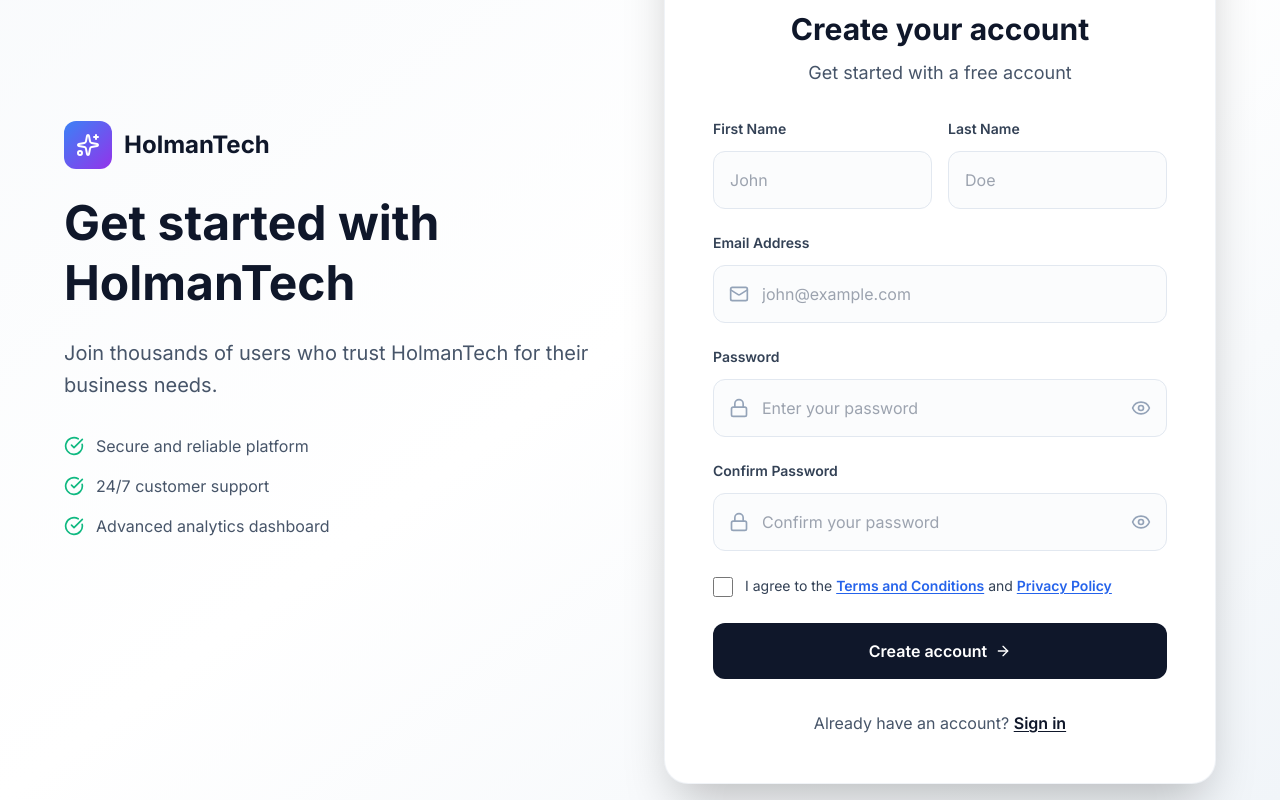
it: Form Integration Tests › Password Visibility Integration › should toggle password visibility in login mode
(page scrolled)
# Switch to login mode
Click the button with test id "toggle-mode": x=1040, y=723 [1014,711,1066,735]
(page scrolled)
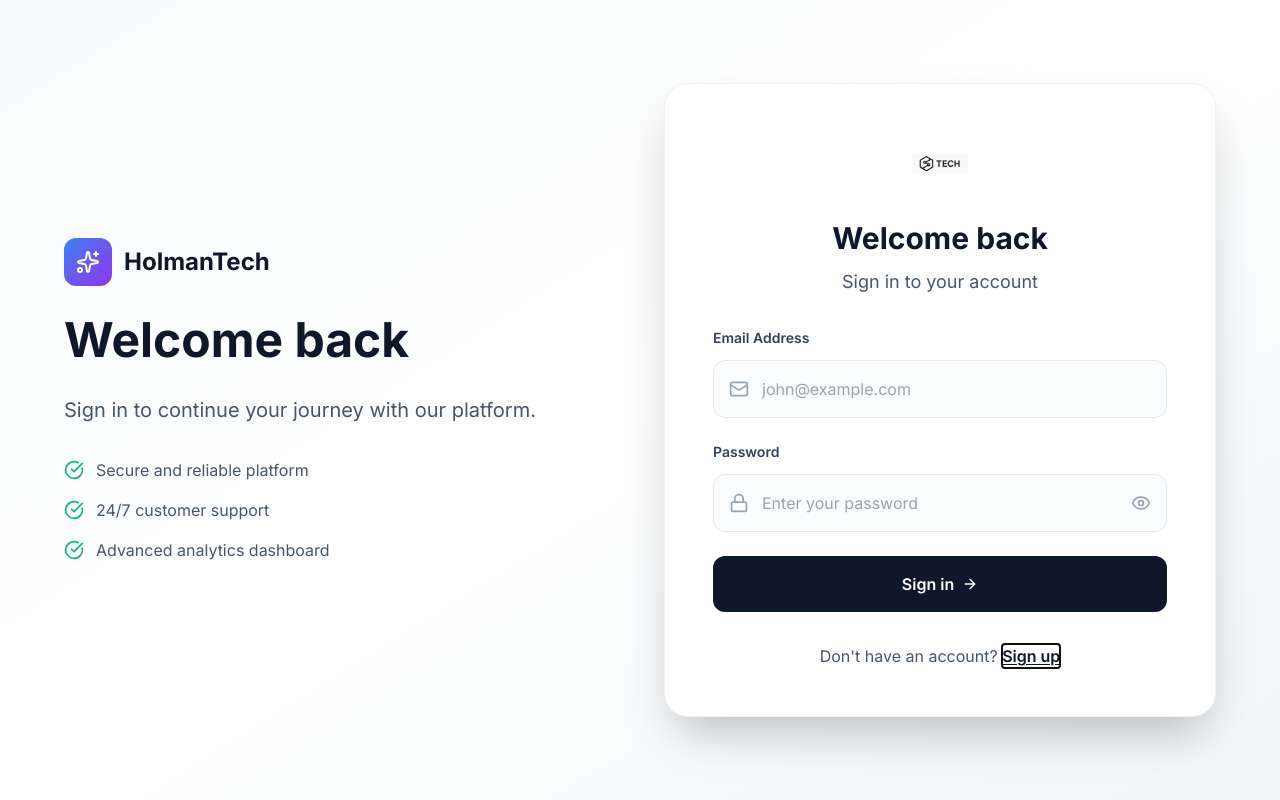
# Type password
In the password field with test id "password-input": x=940, y=503 [713,474,1167,532], type "password123"
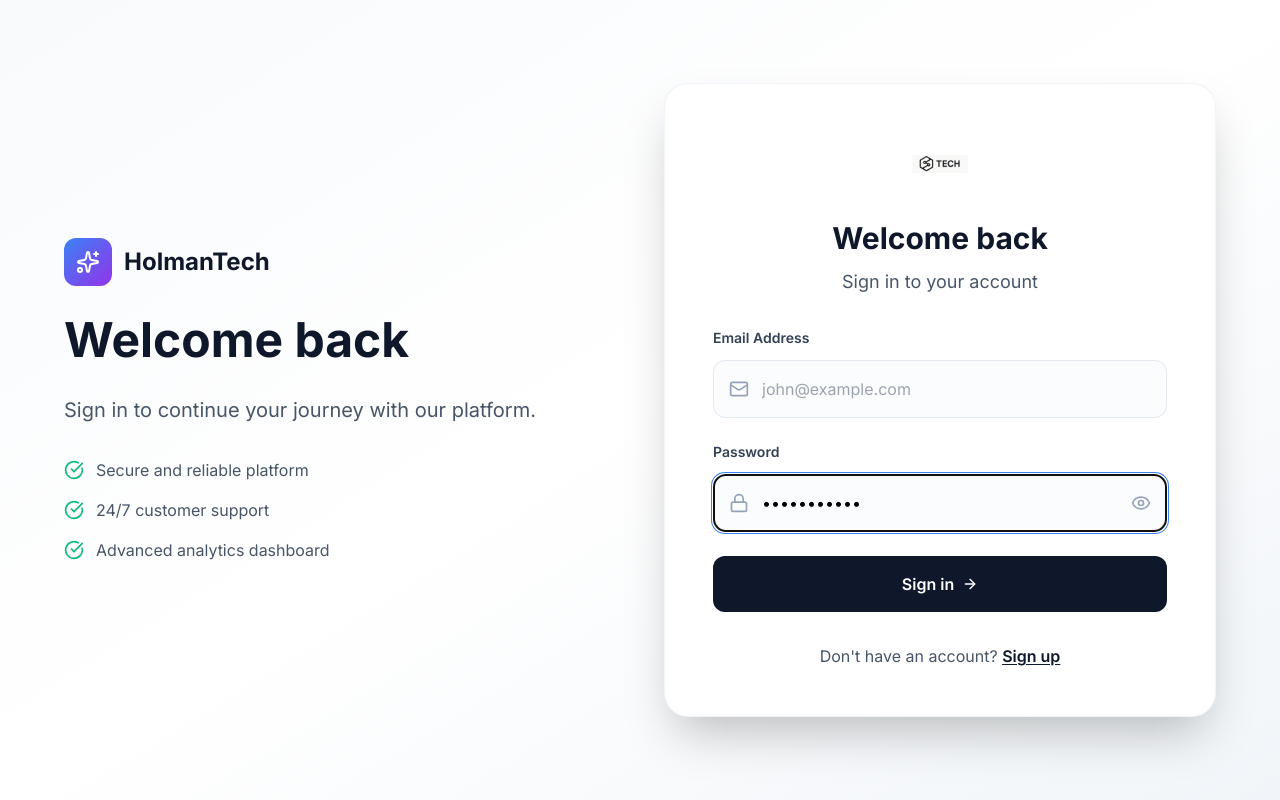
# Toggle visibility
Click the button with test id "toggle-password": x=1141, y=503 [1131,493,1151,513]
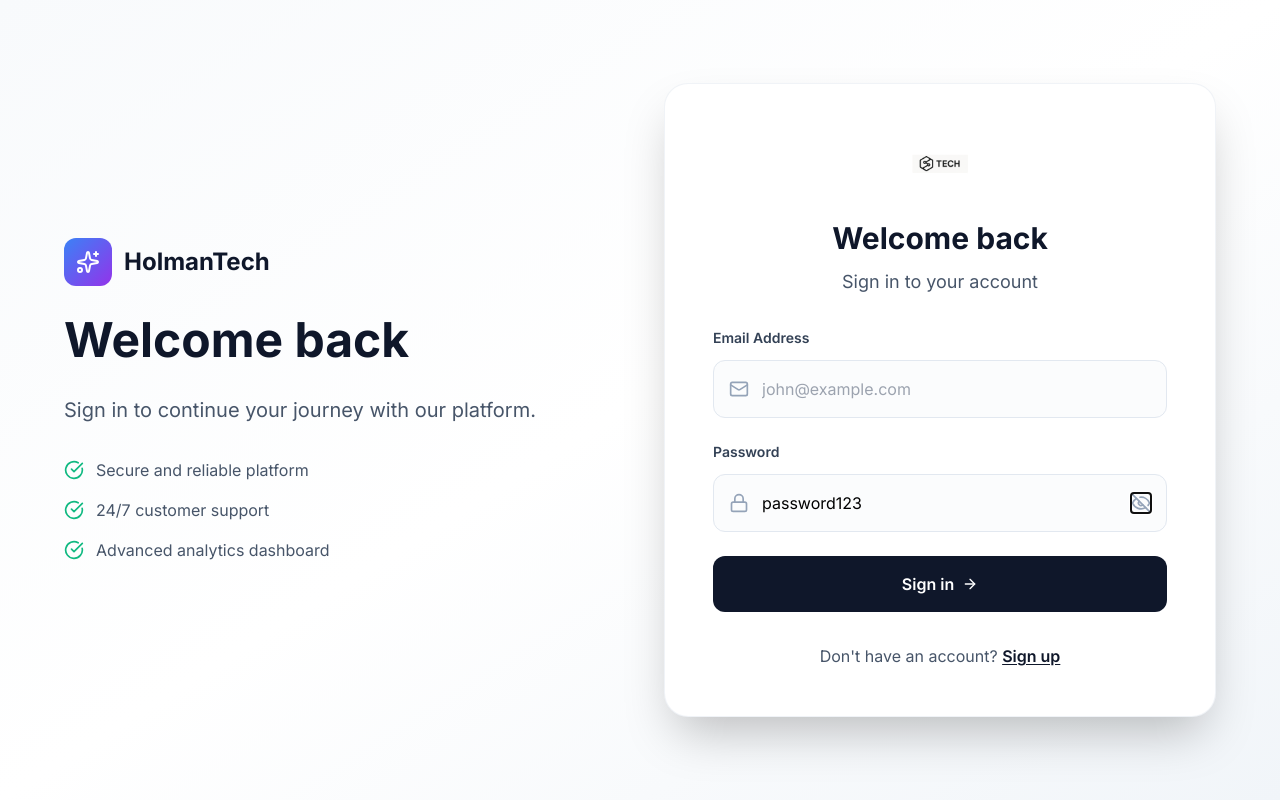
Now the field with test id "password-input" shows its text, box [713,474,1167,532]
# Toggle back
Click the button with test id "toggle-password": x=1141, y=503 [1131,493,1151,513]
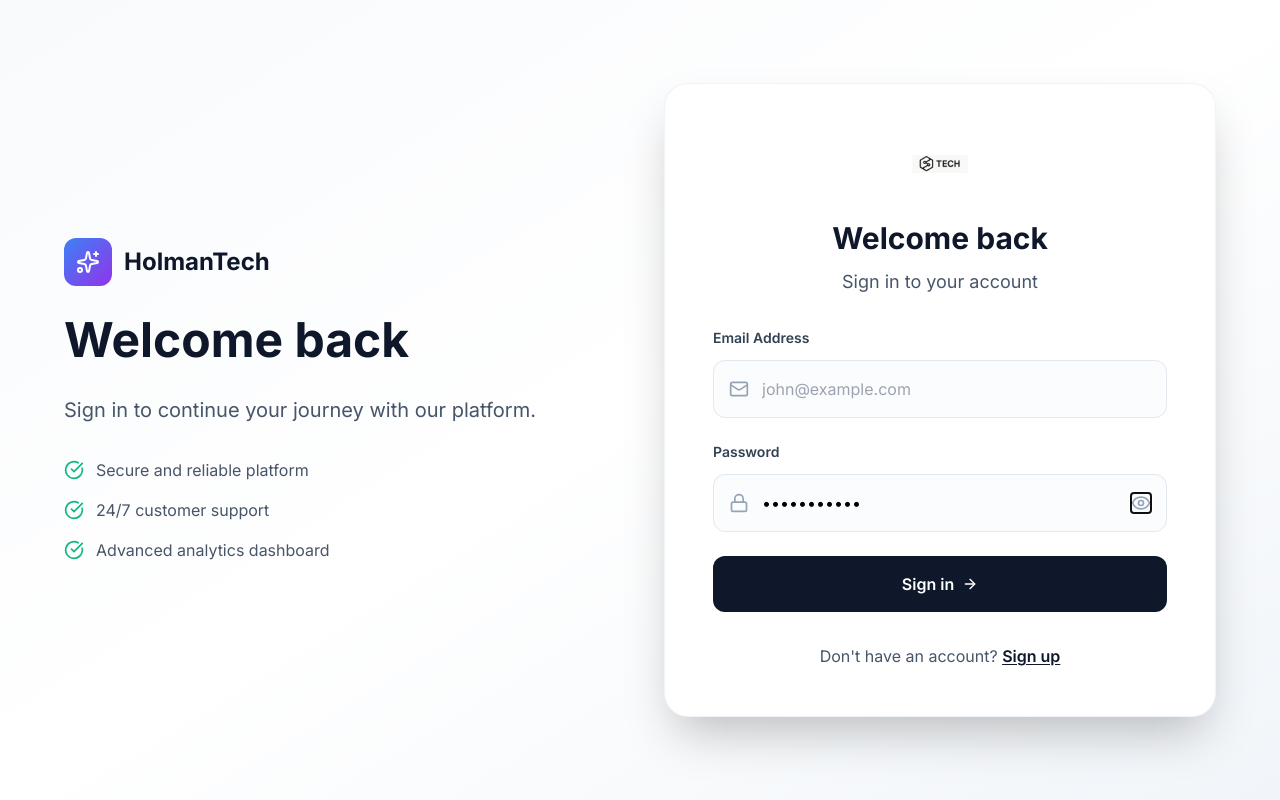
Now the password field with test id "password-input" hides its text, box [713,474,1167,532]
